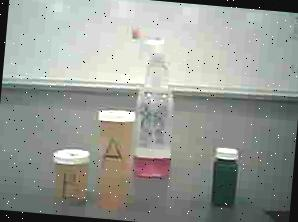Bottle A: (86, 103, 142, 215)
Bottle B: (46, 140, 94, 214)
Bottle C: (207, 140, 246, 208)
hazard: (121, 24, 191, 190)
